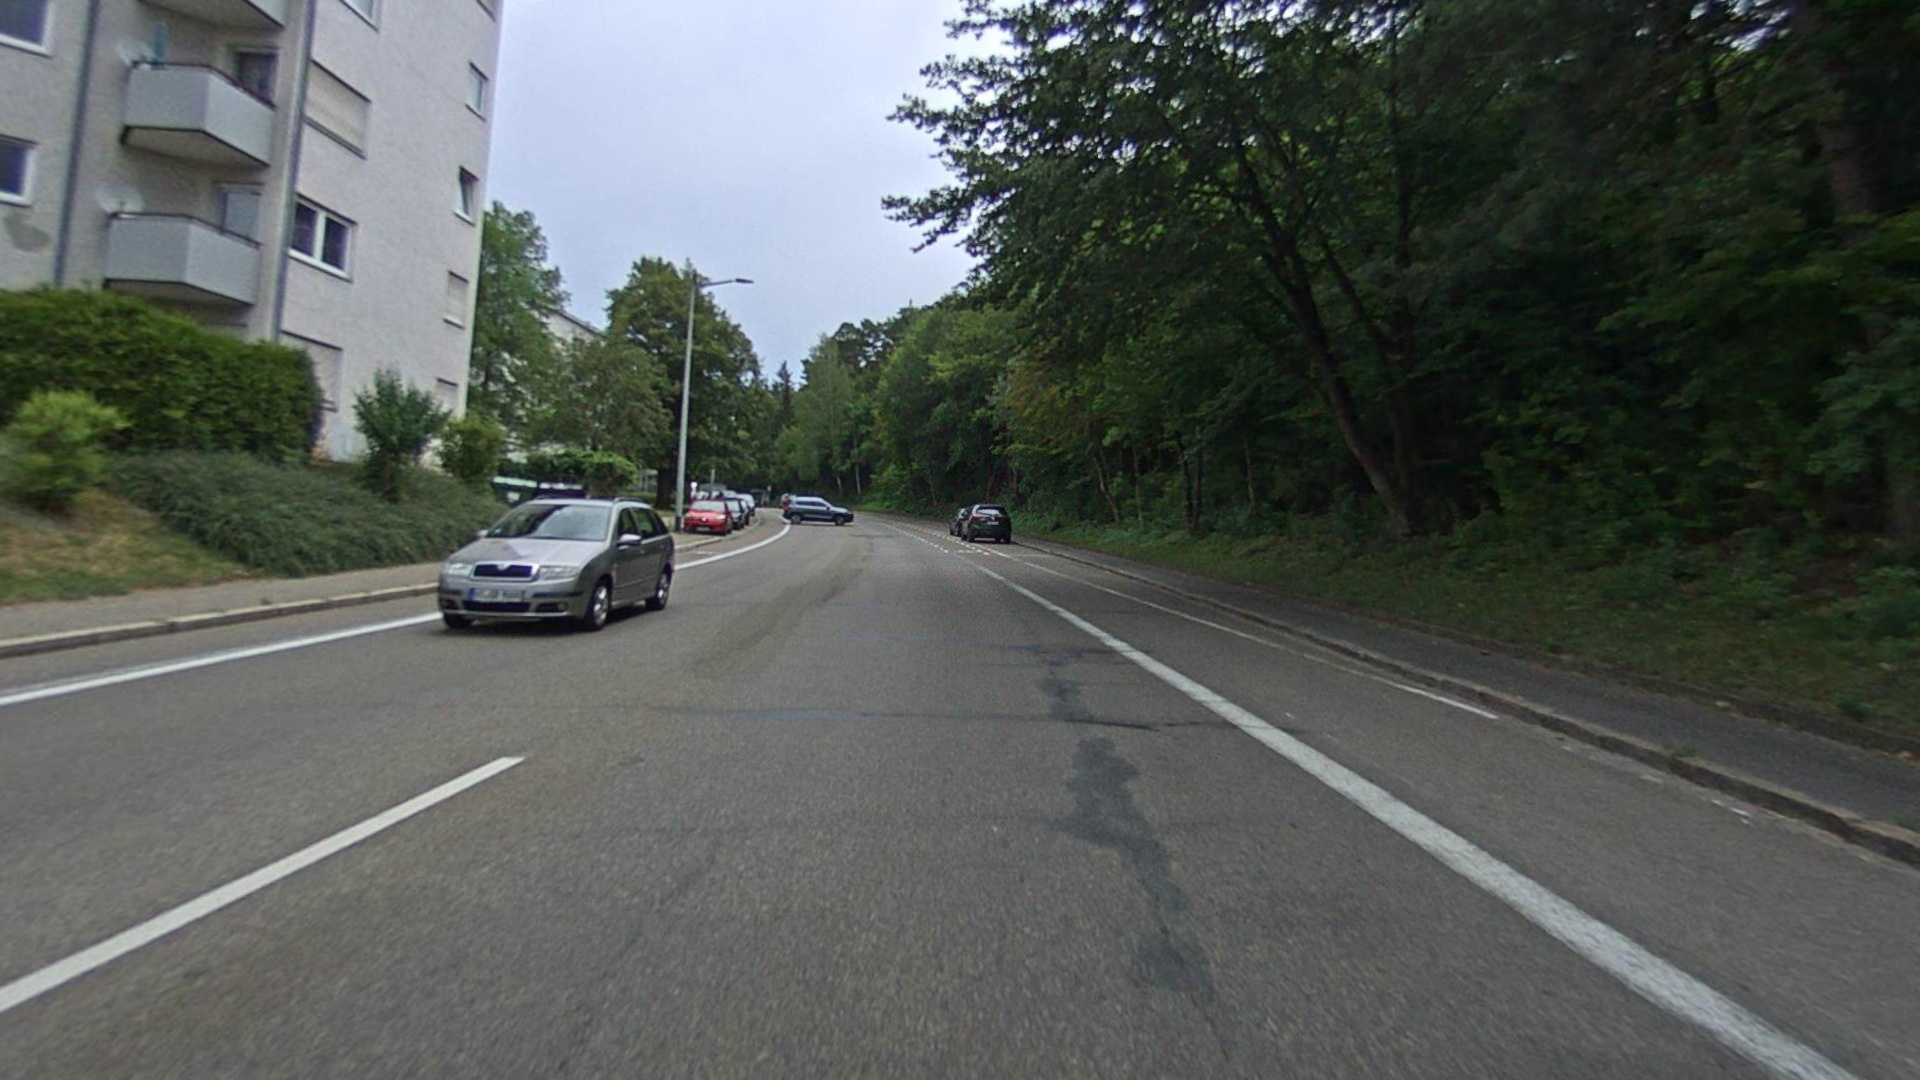car: (435, 492, 678, 636)
